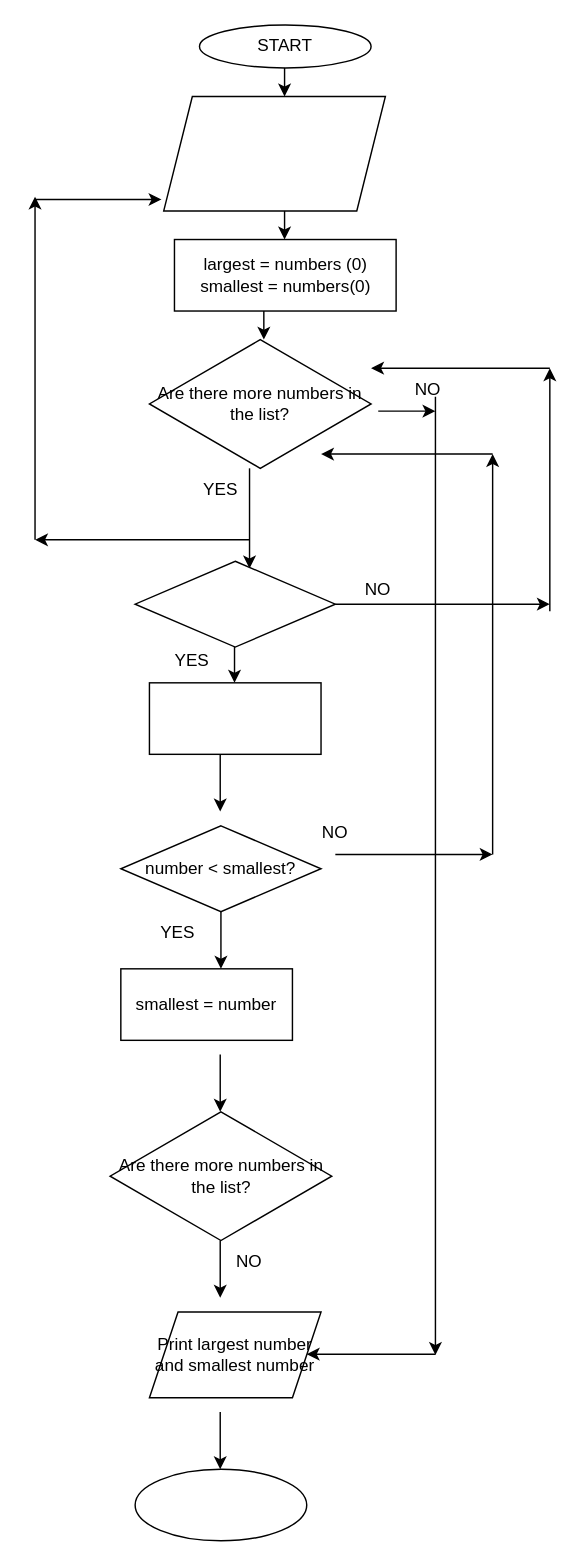
Image size: 586x1566. Some labels were removed from this diagram. Here are the shapes that lost their labels. From the top down, the centre of each, then its label:
At (273,153): "numbers = [19,23,5,9,37,103,4,7]".
At (234,603): "number > largest?".
At (234,717): "largest = number".
At (220,1504): "END".
